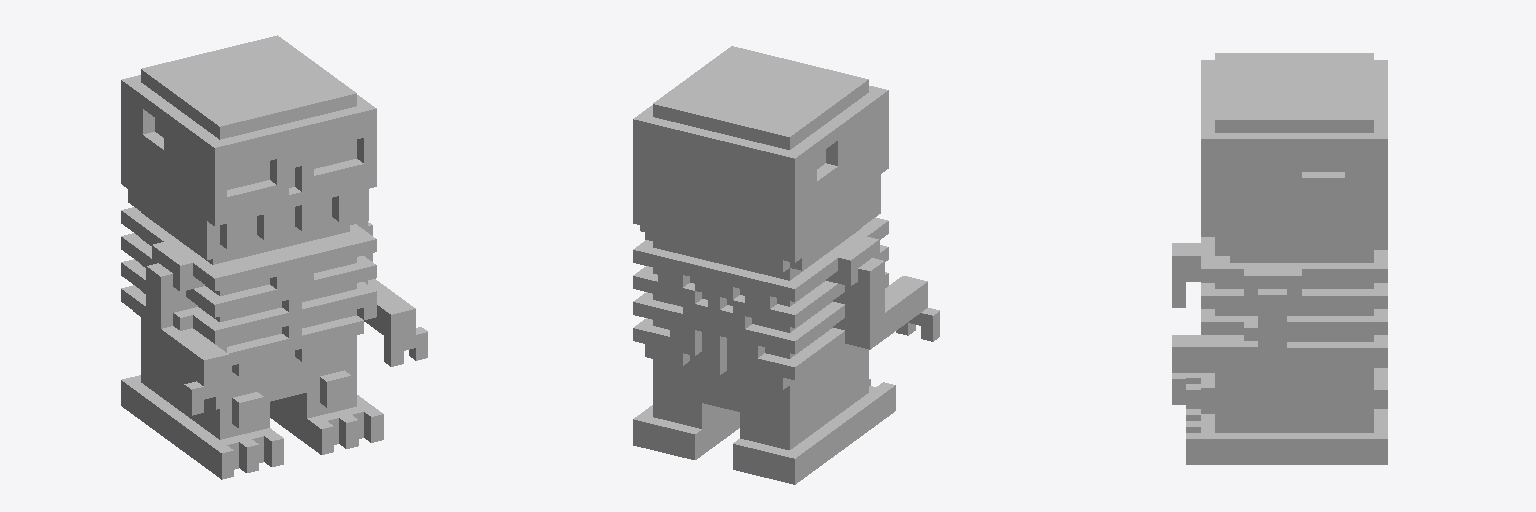
The model's file is Package 01 Necro Dungeon-4.obj.
3 views of the same model, side by side, from view 1: azimuth 30°, elevation 25°; view 2: azimuth 150°, elevation 25°; view 3: azimuth 270°, elevation 25° (orthographic).
Visible parts, largest first — view 1: object 1; view 2: object 1; view 3: object 1.
Boxes of the visible parts, x1=… form: object 1: x1=121, y1=35, x2=427, y2=479; object 1: x1=633, y1=46, x2=939, y2=484; object 1: x1=1172, y1=53, x2=1387, y2=464.
Bounding box in the file's own units: 1.9 × 2.6 × 1.5.